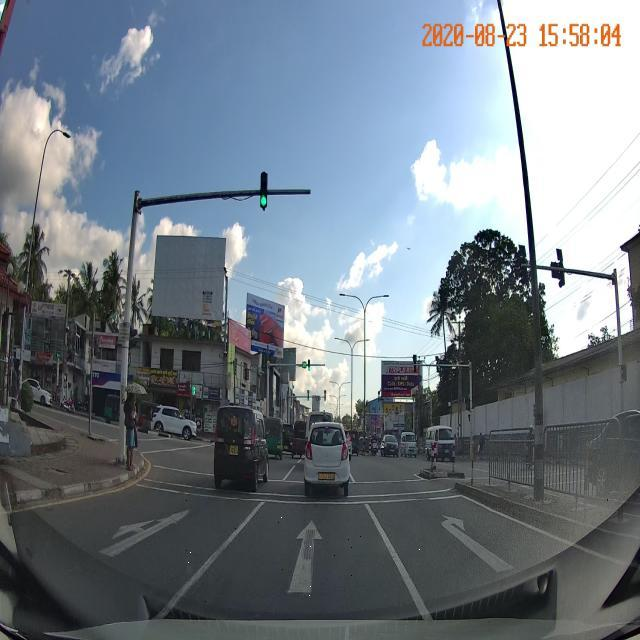forward: (172, 499, 429, 603)
